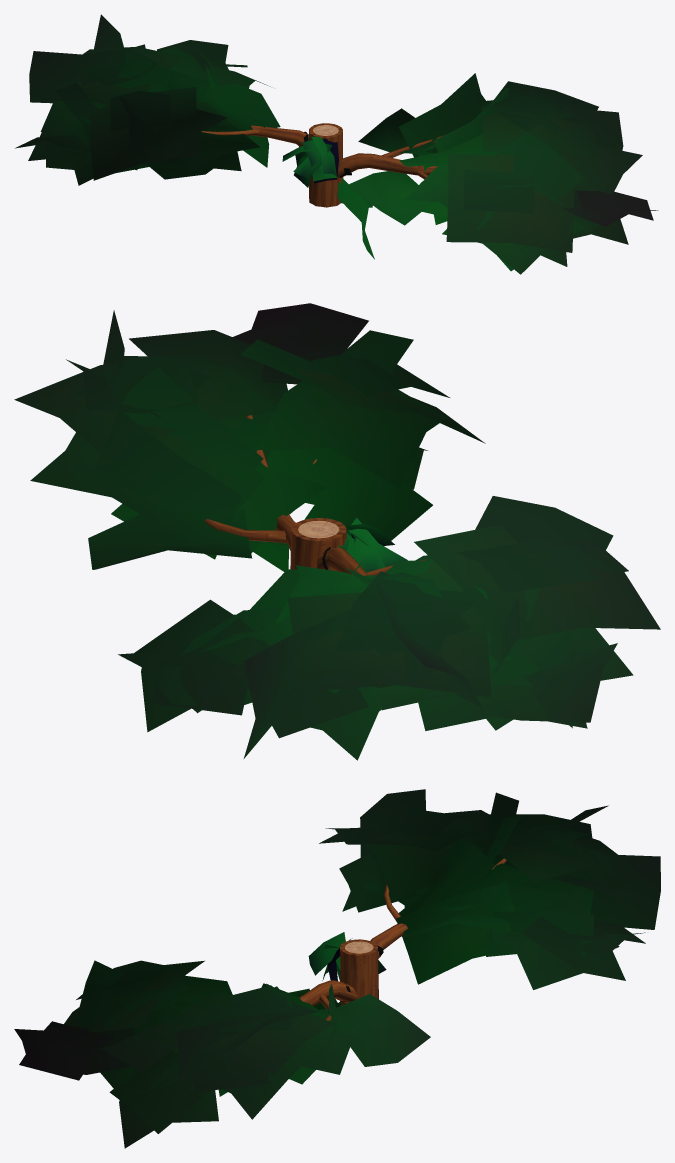
The model's file is obj_harvests_trees_pine02_p09.fbx.
The picture shows the model from 3 angles, top to bottom: view 1: azimuth 30°, elevation 25°; view 2: azimuth 150°, elevation 25°; view 3: azimuth 270°, elevation 25°; orthographic projection. The views are drawn at different scales.
Parts seen in each view (by area): view 1: chunk09; view 2: chunk09; view 3: chunk09.
Part boxes in pixels (left/top/right/bottom): chunk09: left=15, top=14, right=658, bottom=274; chunk09: left=14, top=303, right=660, bottom=760; chunk09: left=14, top=789, right=660, bottom=1148.
Bounding box in the file's own units: 56.5 × 18.42 × 60.57.
